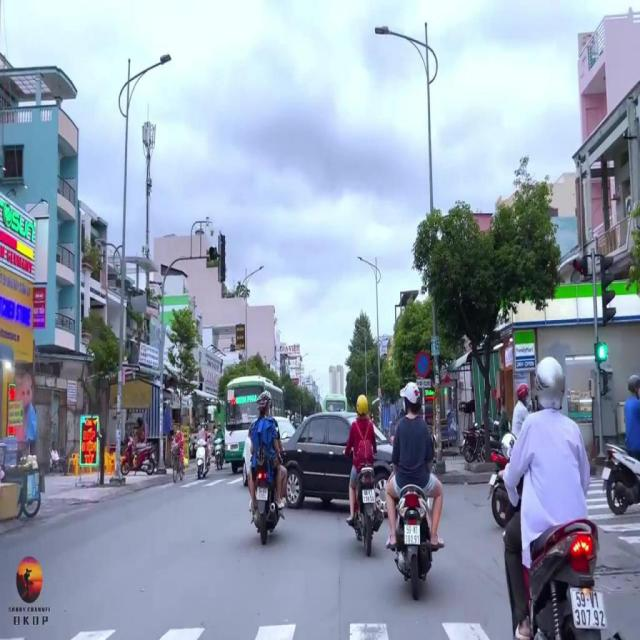cam_do_xe: (416, 350, 431, 378)
khac: (415, 380, 431, 390)
